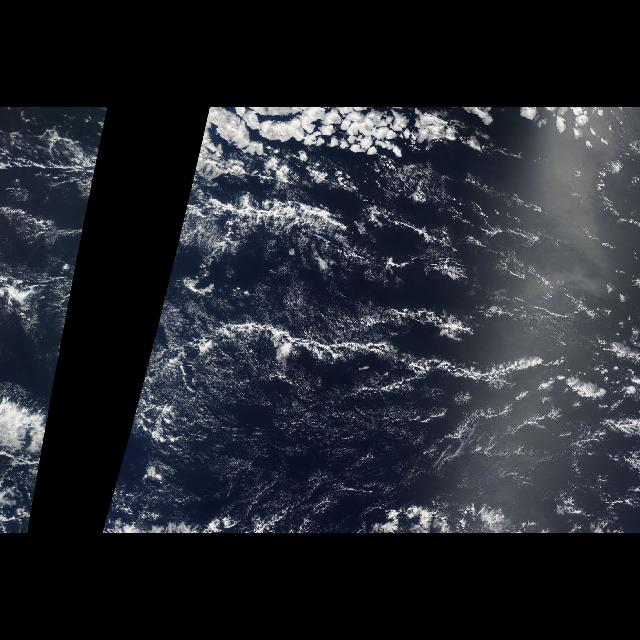Fish: (167, 313, 579, 399), (187, 196, 471, 290)
Flower: (197, 110, 636, 182)
Sugar: (123, 386, 629, 518)
